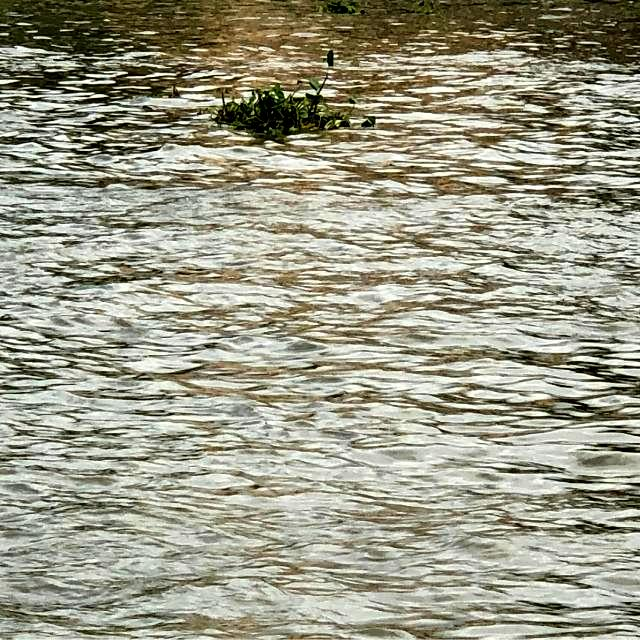water-hyacinth: (219, 68, 351, 139), (311, 2, 368, 19)
